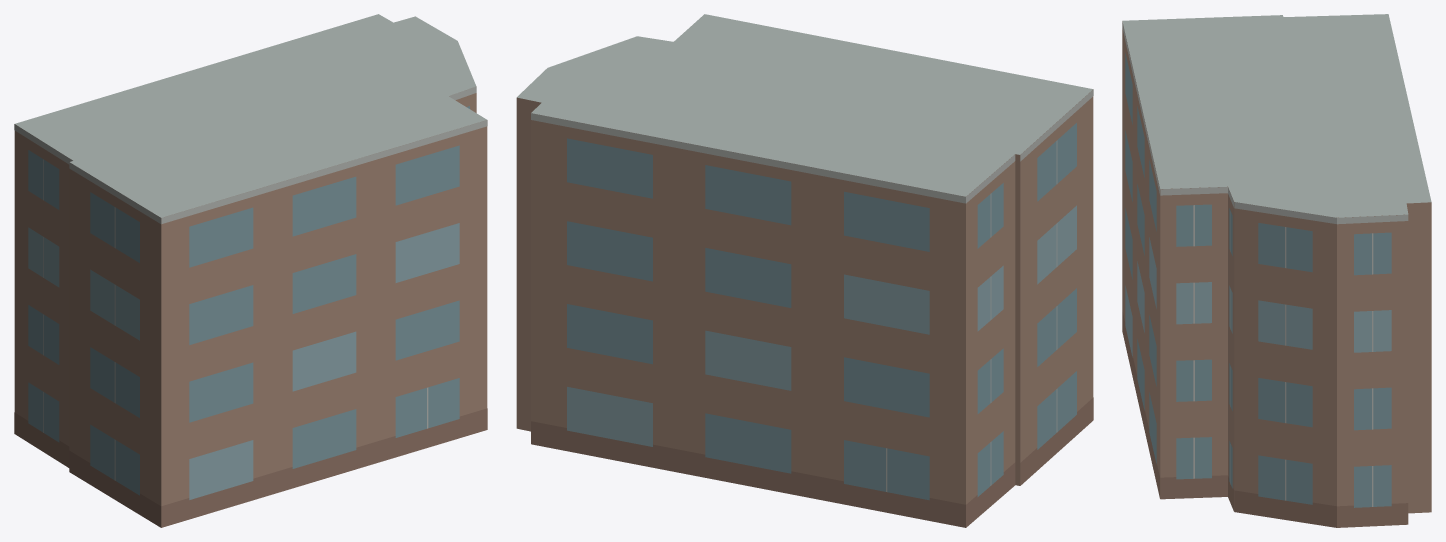
The model's file is survey-upis-32659260.glb.
3 renders of one model, left to right at view 1: azimuth 30°, elevation 25°; view 2: azimuth 150°, elevation 25°; view 3: azimuth 270°, elevation 25°, orthographic. The views are drawn at different scales.
Parts seen in each view (by area): view 1: survey-upis-32659260.tmp; view 2: survey-upis-32659260.tmp; view 3: survey-upis-32659260.tmp.
Boxes of the visible parts, x1=… form: survey-upis-32659260.tmp: x1=14, y1=14, x2=487, y2=527; survey-upis-32659260.tmp: x1=516, y1=14, x2=1093, y2=527; survey-upis-32659260.tmp: x1=1122, y1=14, x2=1431, y2=527.
Bounding box in the file's own units: 16.64 × 11.8 × 10.68.
